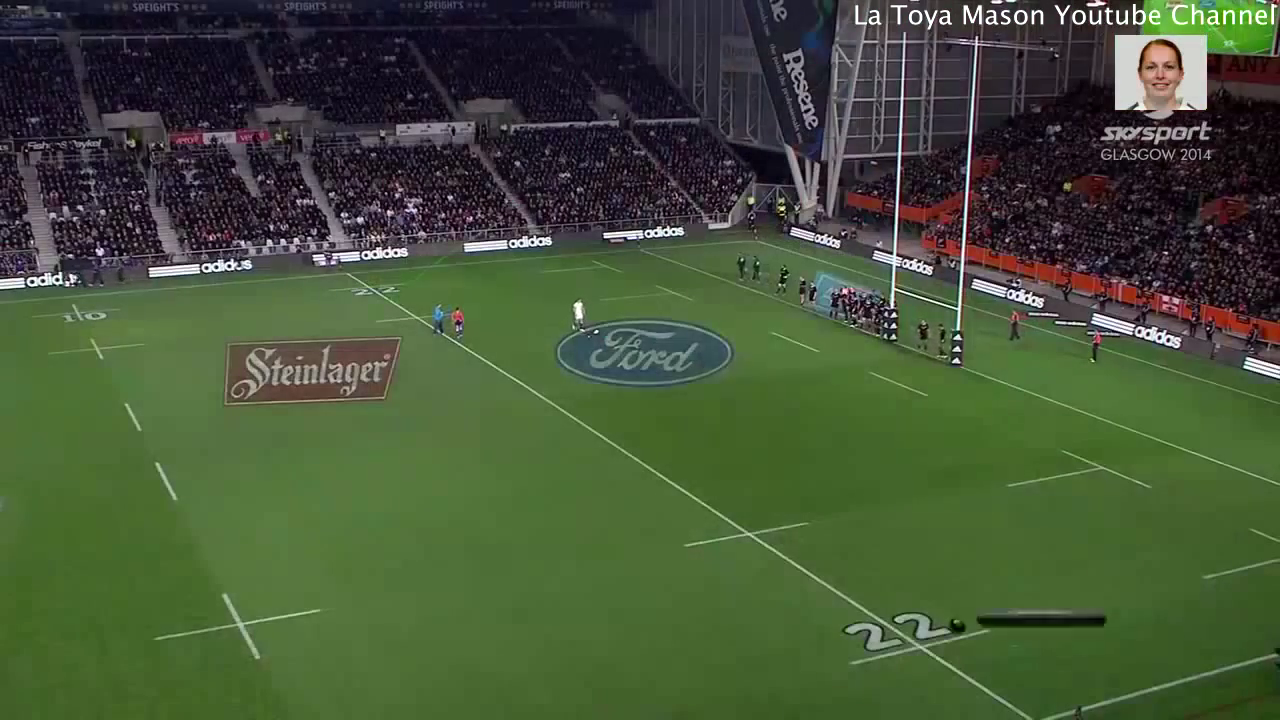10_metre: (144, 586, 340, 675), (44, 332, 150, 367), (31, 302, 137, 329)
ball: (592, 326, 602, 337)
player: (427, 300, 449, 344), (568, 294, 589, 338), (771, 259, 792, 303), (448, 304, 468, 347), (730, 249, 749, 289), (823, 283, 842, 322), (1085, 327, 1104, 366), (915, 317, 934, 355), (858, 295, 875, 337), (805, 277, 822, 315), (933, 319, 948, 362), (747, 252, 764, 288), (1007, 308, 1022, 346), (795, 273, 809, 313), (874, 302, 887, 336), (849, 292, 860, 330)
post: (885, 25, 983, 371)
